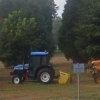Tractor: (7, 48, 60, 90)
